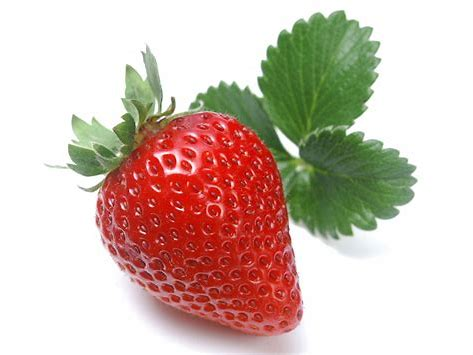strawberry: (75, 65, 305, 340)
